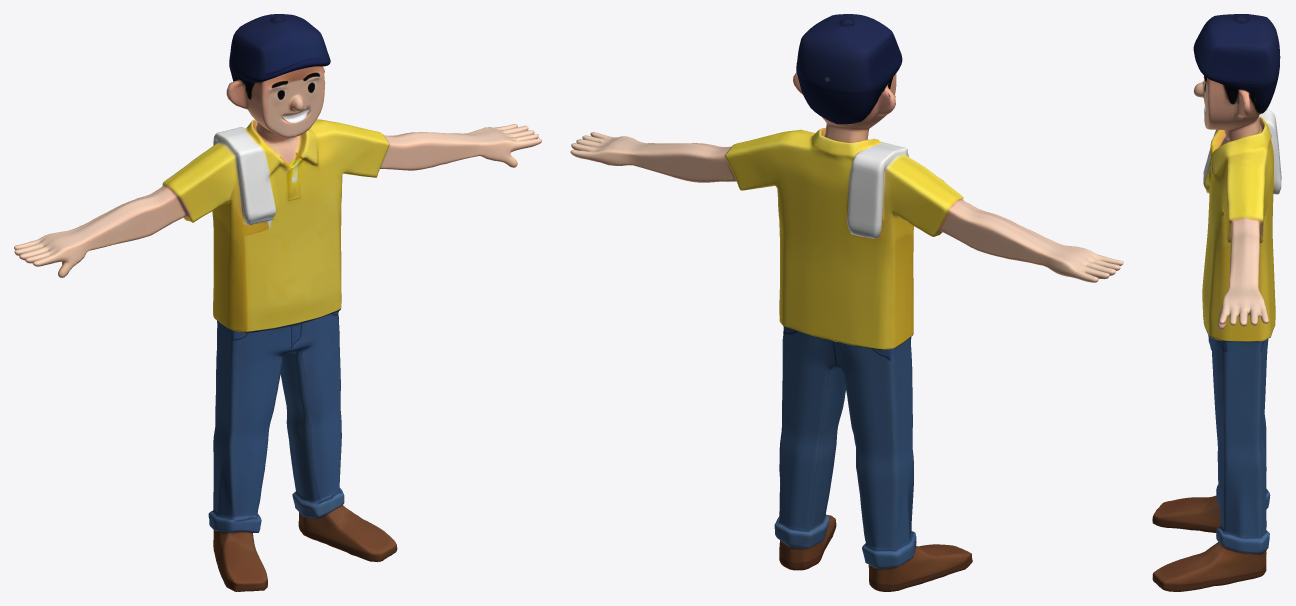
The model's file is ujang.glb.
The picture shows the model from 3 angles, left to right: view 1: azimuth 30°, elevation 25°; view 2: azimuth 150°, elevation 25°; view 3: azimuth 270°, elevation 25°; orthographic projection. The views are drawn at different scales.
Parts seen in each view (by area): view 1: model; view 2: model; view 3: model.
Boxes of the visible parts, x1,y1,x2,y2 form: model: (14,14,541,591); model: (570,14,1123,591); model: (1152,14,1281,591).
Bounding box in the file's own units: 1.75 × 1.72 × 0.3751.
1 material, 1 textured.
